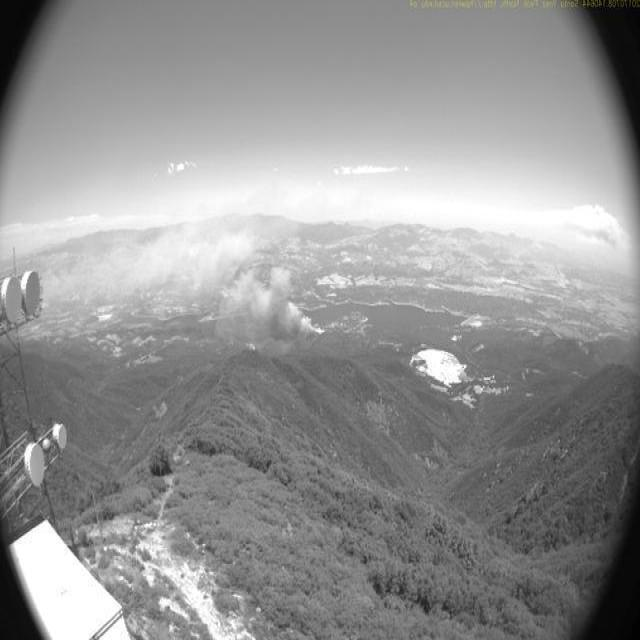Smoke: (86, 196, 326, 339)
